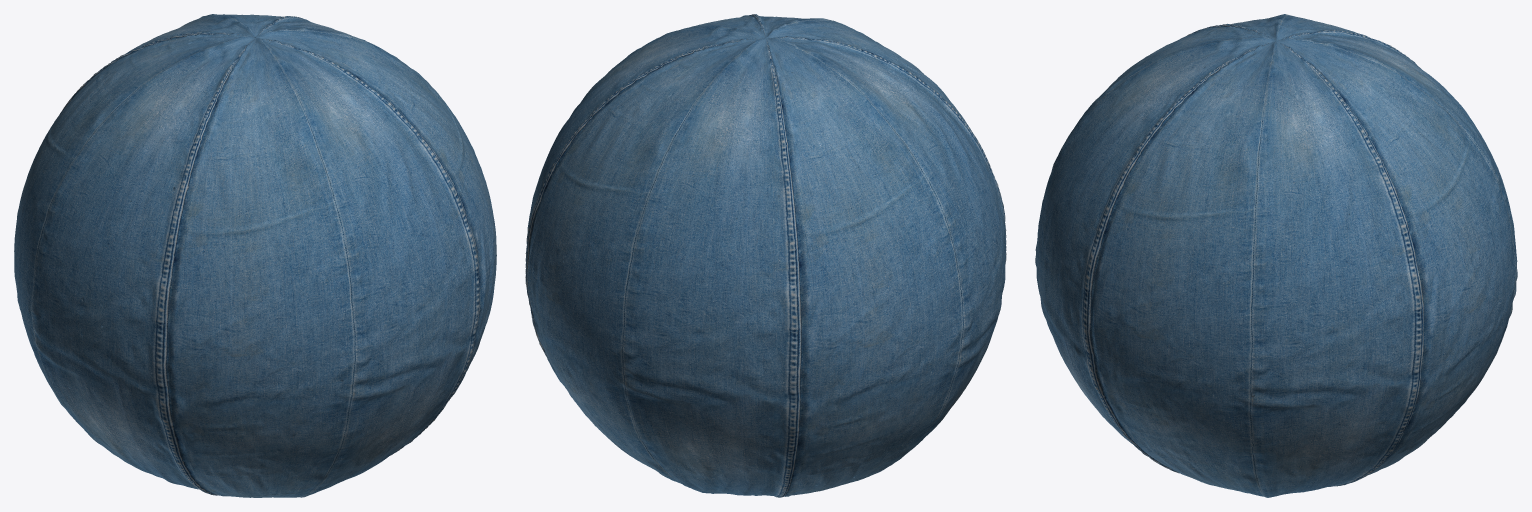
File: denim_fabric_2k.gltf
3 renders of one model, left to right at view 1: azimuth 30°, elevation 25°; view 2: azimuth 150°, elevation 25°; view 3: azimuth 270°, elevation 25°, orthographic.
Visible parts, largest first — view 1: sphere_gltf; view 2: sphere_gltf; view 3: sphere_gltf.
Part boxes in pixels (x1,y1,x2,y2): sphere_gltf: (14, 14, 496, 497); sphere_gltf: (525, 14, 1006, 497); sphere_gltf: (1035, 14, 1517, 497).
Size of the model in its own units: 0.1009 by 0.1005 by 0.1009.
Materials: 1 (1 with a texture image).
